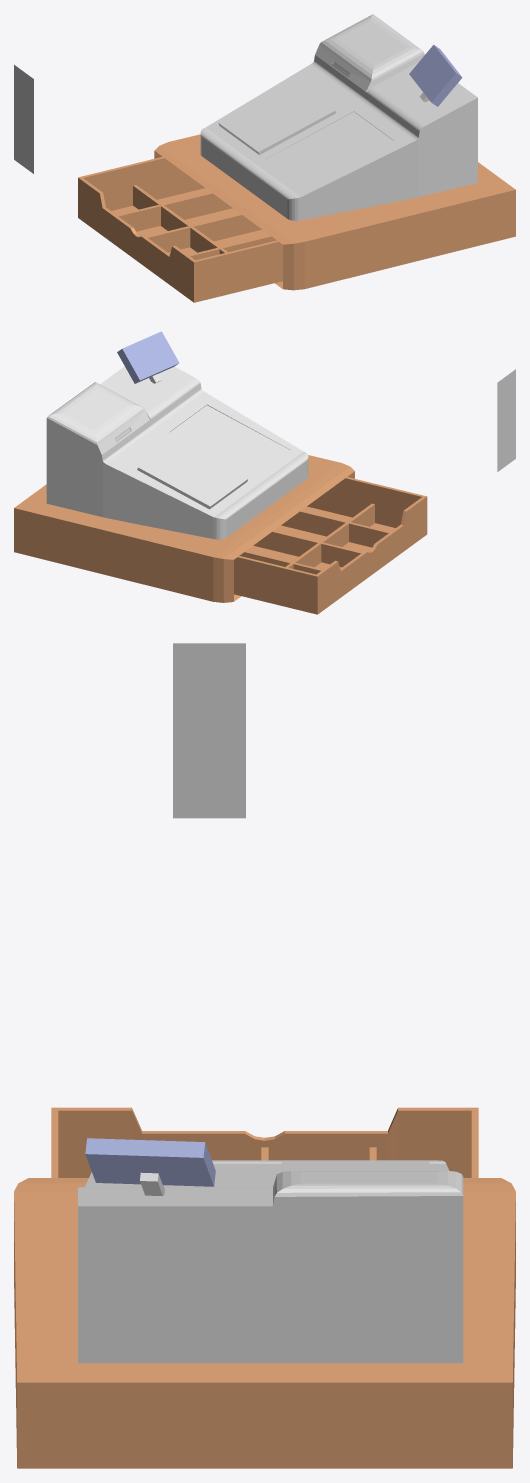
The model's file is Register_APPLIED.fbx.
3 views of the same model, one above another, from view 1: azimuth 30°, elevation 25°; view 2: azimuth 150°, elevation 25°; view 3: azimuth 270°, elevation 25° (orthographic). The views are drawn at different scales.
Visible parts, largest first — view 1: Cube, Cube.001, Base, Cube.002, Plane, Cube.004; view 2: Cube, Cube.001, Base, Cube.002, Cube.004, Plane; view 3: Cube.001, Cube, Base, Plane, Cube.004, Cube.002.
Boxes of the visible parts, <box> form: Cube: <box>200,14,477,220</box>; Cube.001: <box>154,134,515,290</box>; Base: <box>78,156,282,302</box>; Cube.002: <box>218,81,335,154</box>; Plane: <box>14,65,33,173</box>; Cube.004: <box>409,44,462,106</box>; Cube: <box>46,366,308,539</box>; Cube.001: <box>14,455,354,602</box>; Base: <box>234,477,427,614</box>; Cube.002: <box>137,440,247,509</box>; Cube.004: <box>117,331,179,383</box>; Plane: <box>497,369,515,471</box>; Cube.001: <box>14,1178,515,1468</box>; Cube: <box>78,1160,463,1363</box>; Base: <box>51,1107,478,1177</box>; Plane: <box>173,643,245,818</box>; Cube.004: <box>85,1138,215,1186</box>; Cube.002: <box>281,1160,429,1171</box>.
Size of what is drawn, in the model's own units: 97.01 by 49.35 by 52.11.
